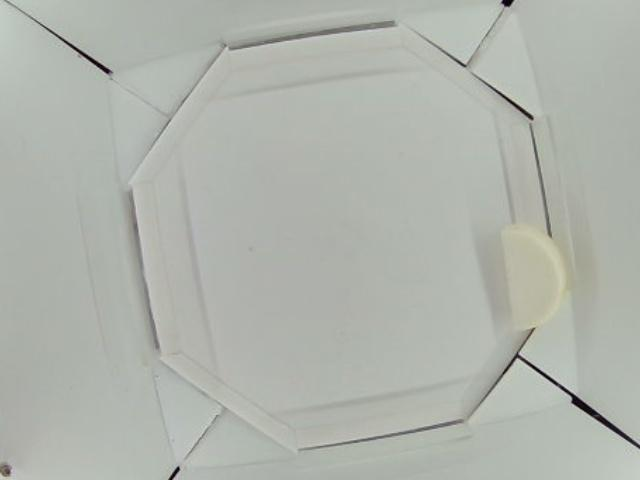Mooli: (502, 225, 570, 327)
